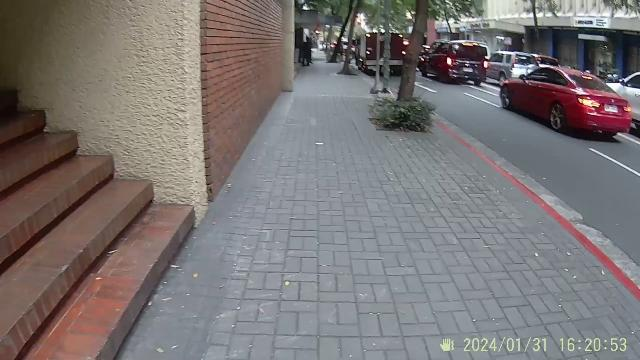tree: (398, 1, 430, 103)
